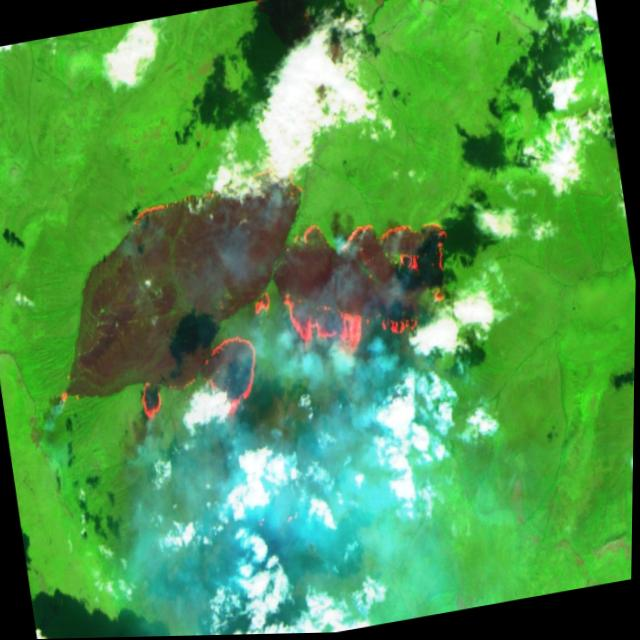fire: (25, 130, 477, 454)
